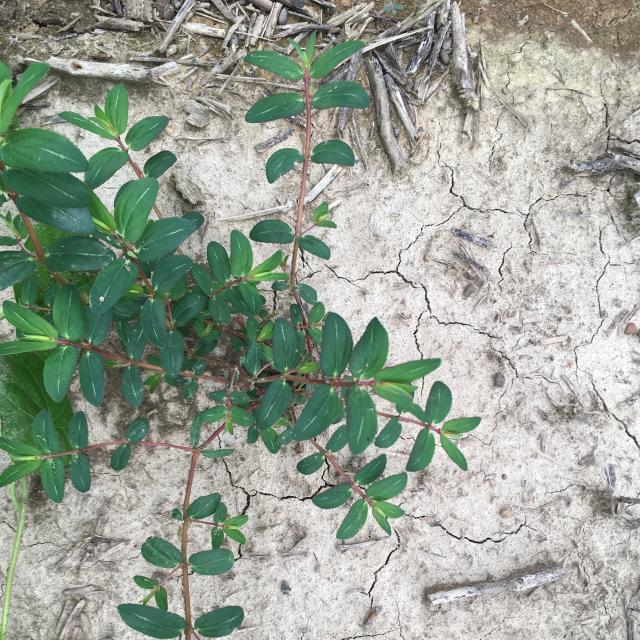SpottedSpurge: (1, 30, 481, 640)
